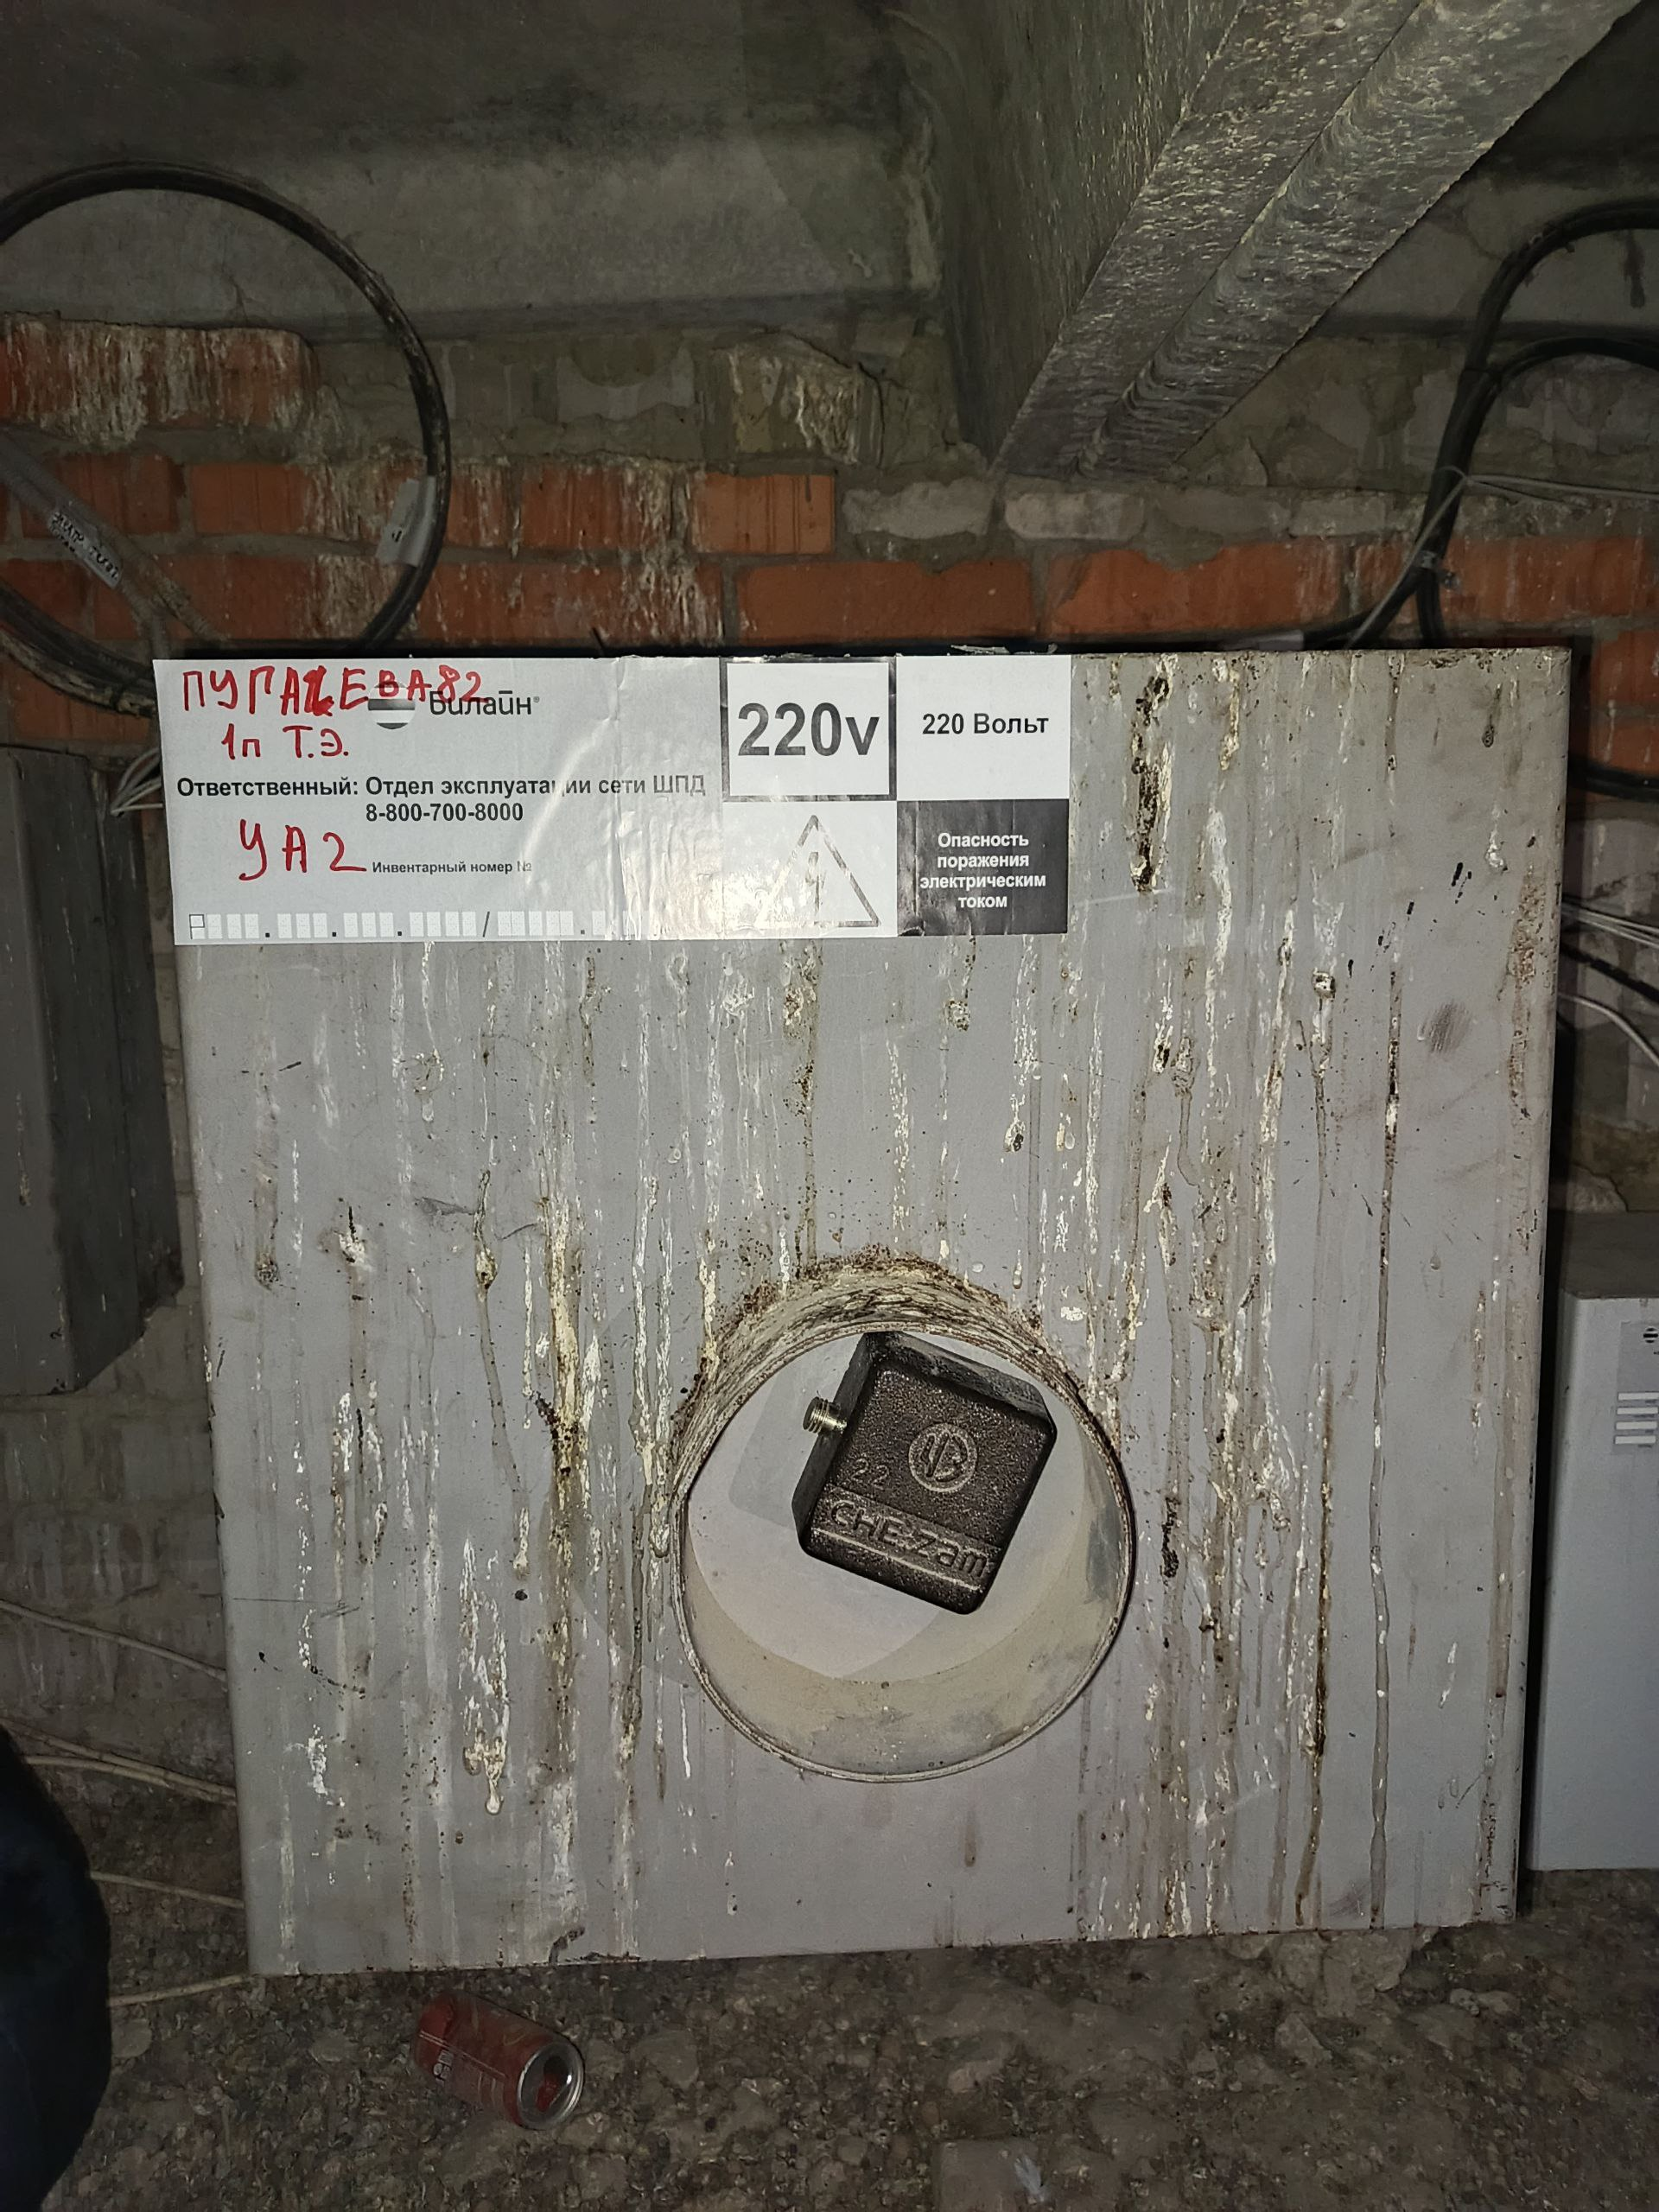shta-9: (112, 587, 1601, 2003)
